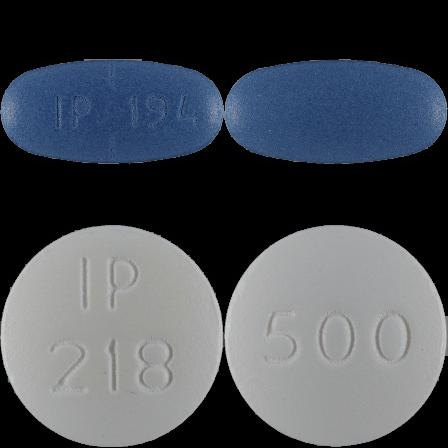53746-194: (0, 0, 224, 224)
